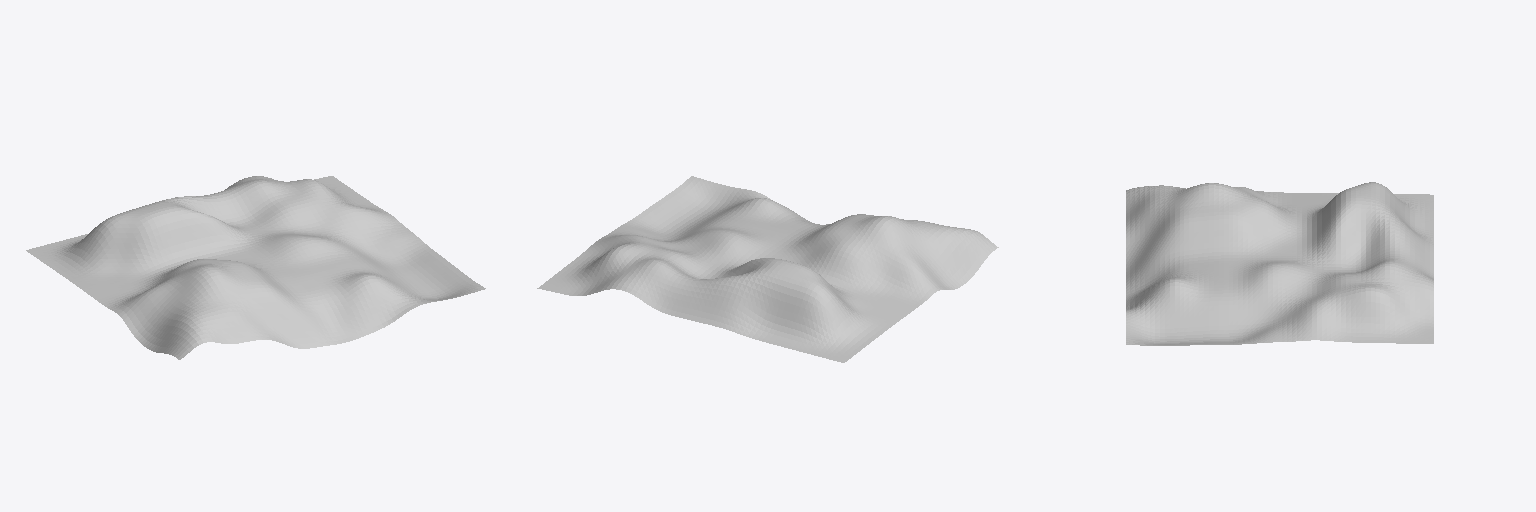
File: terrain_nurbs.obj
3 views of the same model, side by side, from view 1: azimuth 30°, elevation 25°; view 2: azimuth 150°, elevation 25°; view 3: azimuth 270°, elevation 25° (orthographic).
Bounding box in the file's own units: 141 × 29.15 × 123.